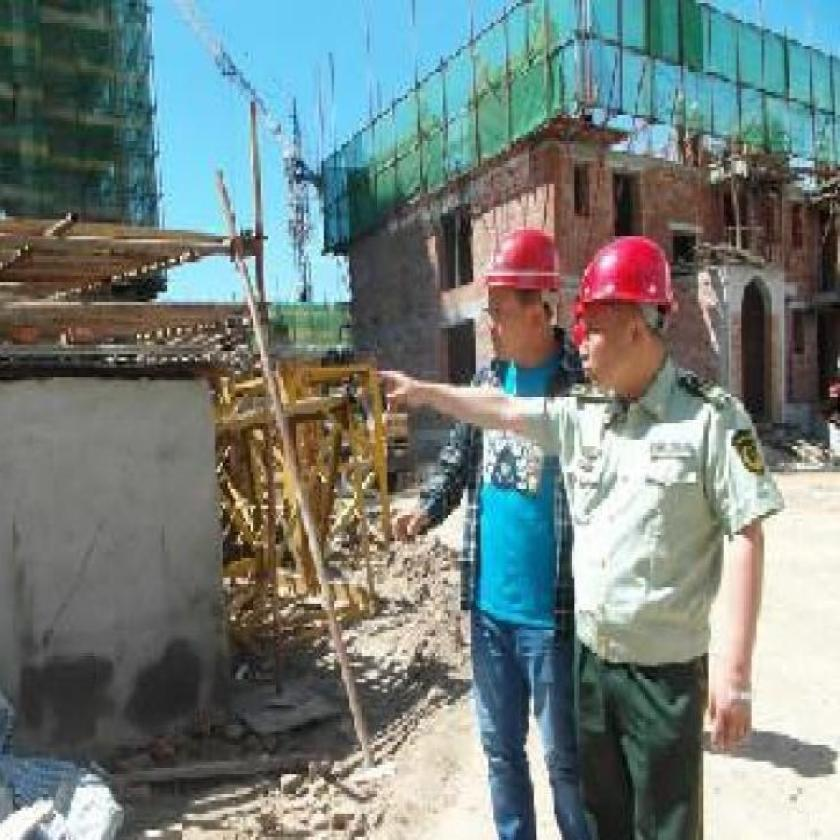Con_casco: (573, 232, 676, 408), (485, 222, 561, 388)
